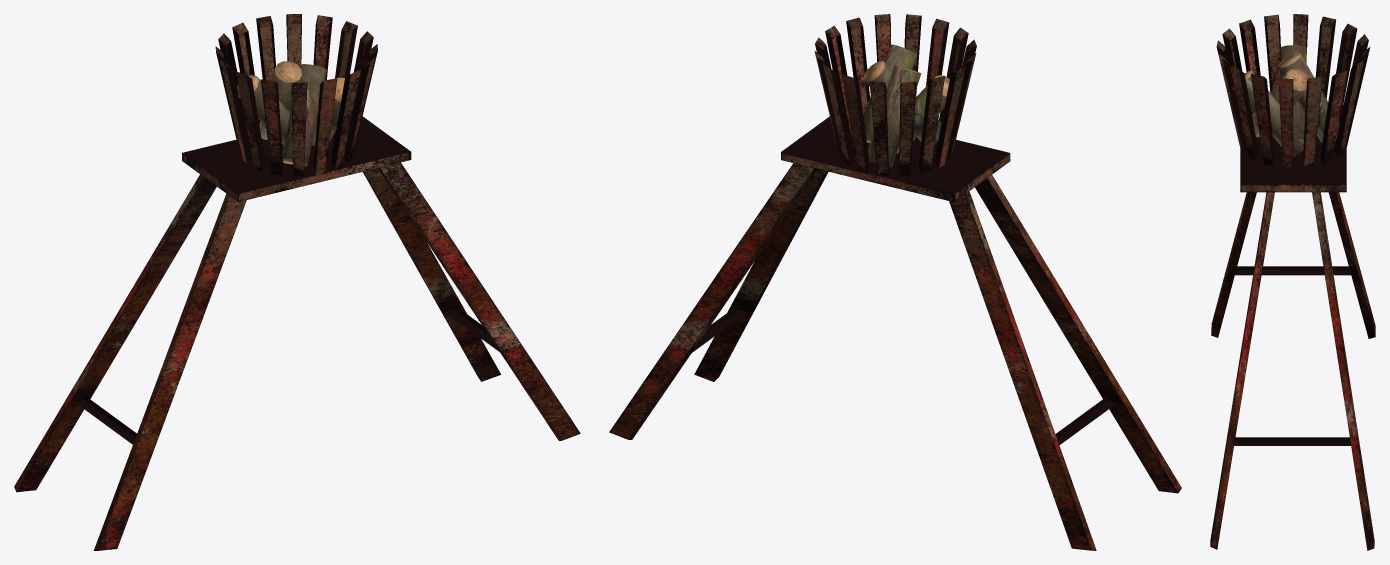
The model's file is büyük meşale1.fbx.
3 views of the same model, side by side, from view 1: azimuth 30°, elevation 25°; view 2: azimuth 150°, elevation 25°; view 3: azimuth 270°, elevation 25° (orthographic). The views are drawn at different scales.
Parts seen in each view (by area): view 1: Cylinder, Cylinder.002, Cylinder.001; view 2: Cylinder, Cylinder.002, Cylinder.001; view 3: Cylinder, Cylinder.001, Cylinder.002.
Boxes of the visible parts, x1,y1,x2,y2 form: Cylinder: (182,14,411,201); Cylinder.002: (14,174,246,550); Cylinder.001: (363,162,580,440); Cylinder: (781,14,1010,202); Cylinder.002: (949,175,1181,550); Cylinder.001: (609,163,828,439); Cylinder: (1216,14,1370,192); Cylinder.001: (1210,192,1374,550); Cylinder.002: (1211,192,1375,338).
Size of the model in its own units: 249 by 204 by 77.45.
1 material, 1 textured.
